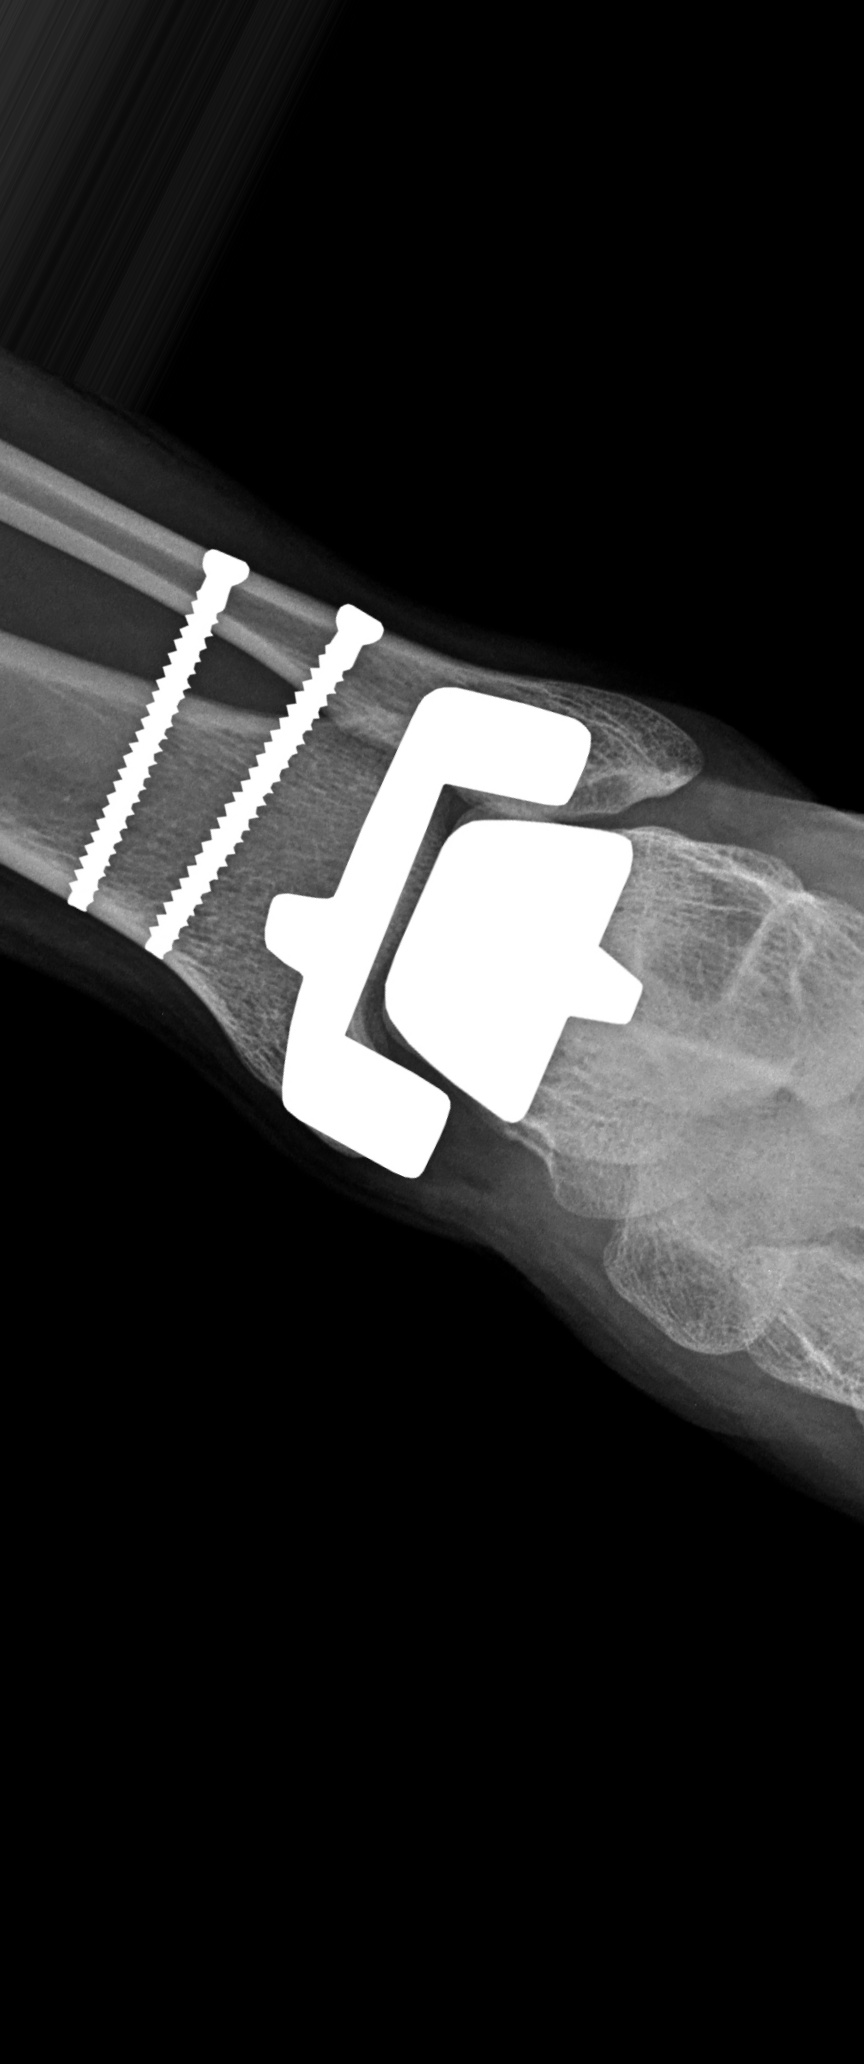Agility-Depuy: (58, 516, 649, 1193)
